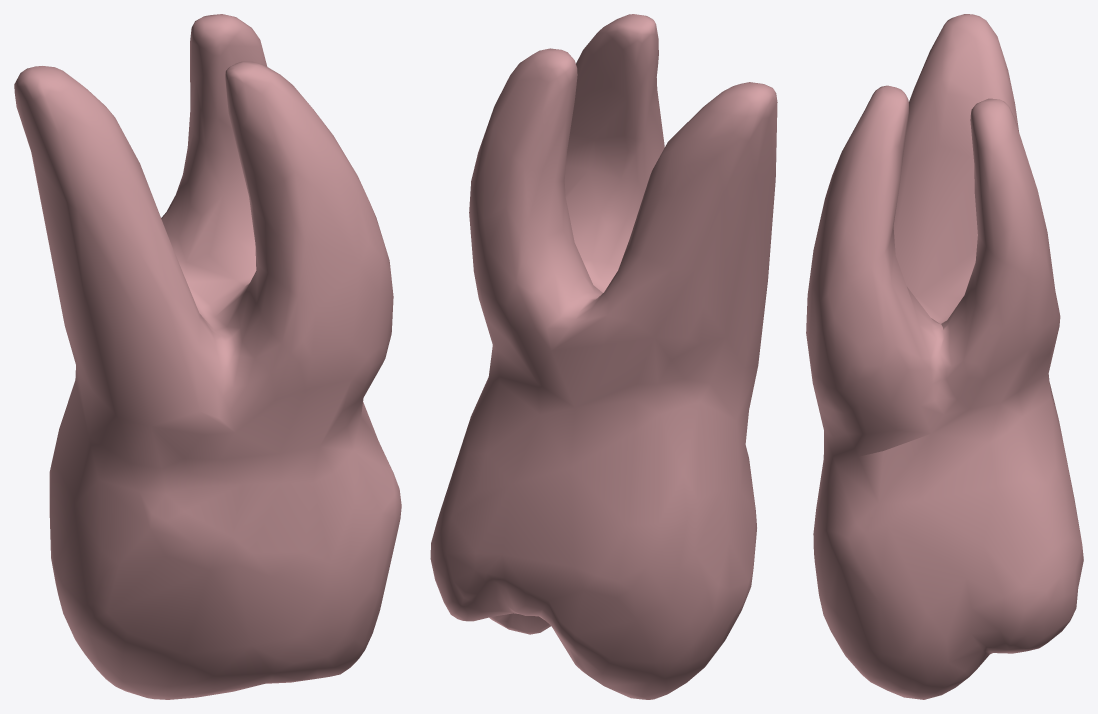
File: fma55700_fj1263.glb
3 renders of one model, left to right at view 1: azimuth 30°, elevation 25°; view 2: azimuth 150°, elevation 25°; view 3: azimuth 270°, elevation 25°, orthographic. The views are drawn at different scales.
Visible parts, largest first — view 1: FMA55700_FJ1263; view 2: FMA55700_FJ1263; view 3: FMA55700_FJ1263.
Boxes of the visible parts, x1,y1,x2,y2 form: FMA55700_FJ1263: (14,14,401,699); FMA55700_FJ1263: (430,14,777,699); FMA55700_FJ1263: (806,14,1083,699).
Size of the model in its own units: 0.0119 by 0.0227 by 0.00986.
